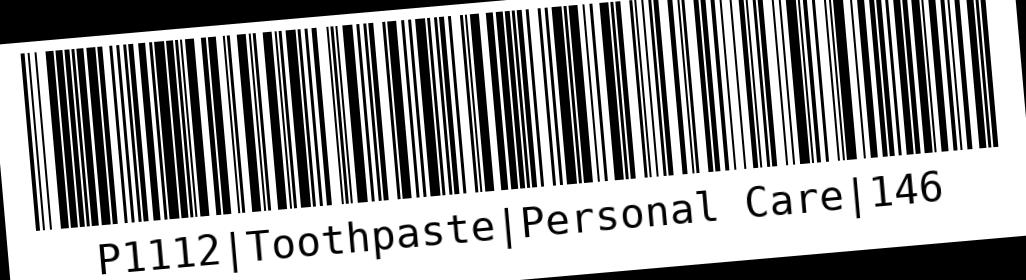milk: (0, 0, 1025, 279), (22, 0, 997, 229)
